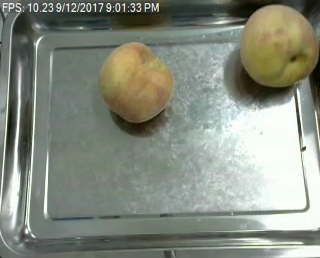Peach: (241, 3, 319, 87), (97, 39, 174, 122)
